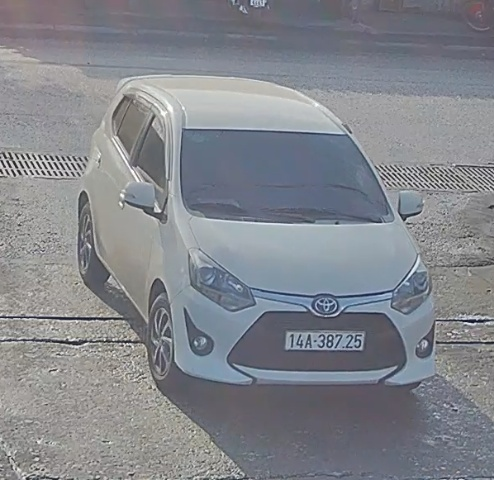vehicle plate: (280, 322, 370, 358)
